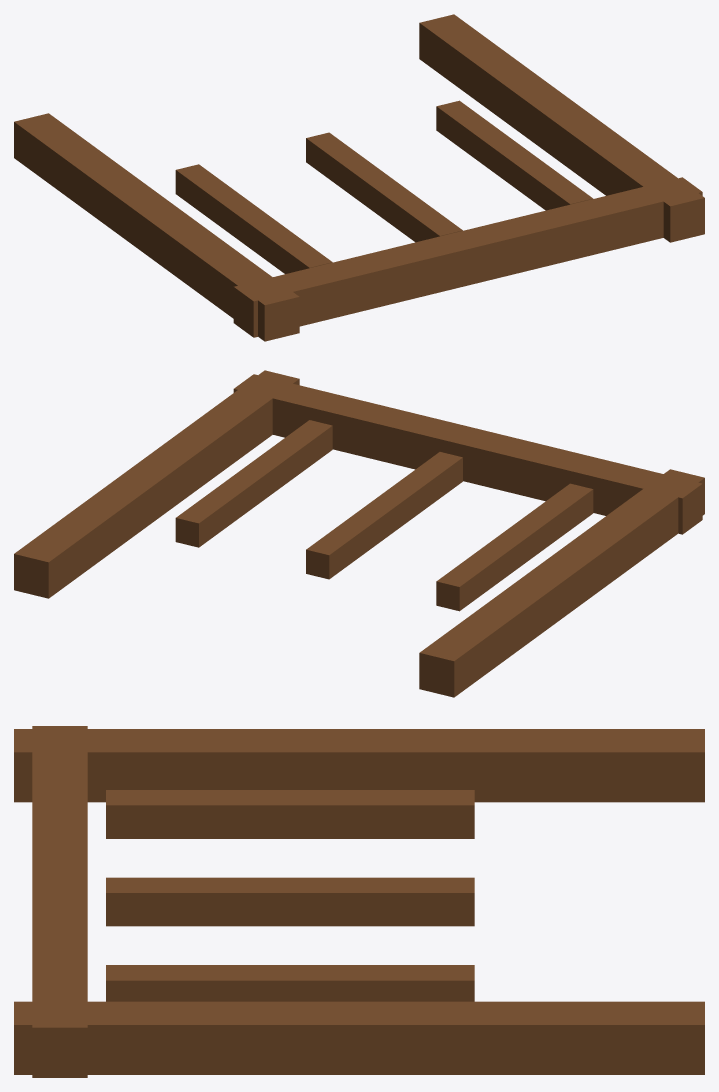
The model's file is SM_CommonFishingRack.obj.
3 renders of one model, top to bottom at view 1: azimuth 30°, elevation 25°; view 2: azimuth 150°, elevation 25°; view 3: azimuth 270°, elevation 25°, orthographic. The views are drawn at different scales.
Visible parts, largest first — view 1: SM_CommonFishingRack; view 2: SM_CommonFishingRack; view 3: SM_CommonFishingRack.
Part boxes in pixels (x1,y1,x2,y2): SM_CommonFishingRack: (14, 14, 704, 341); SM_CommonFishingRack: (14, 370, 704, 697); SM_CommonFishingRack: (14, 726, 704, 1077).
Bounding box in the file's own units: 155 × 12 × 150.
